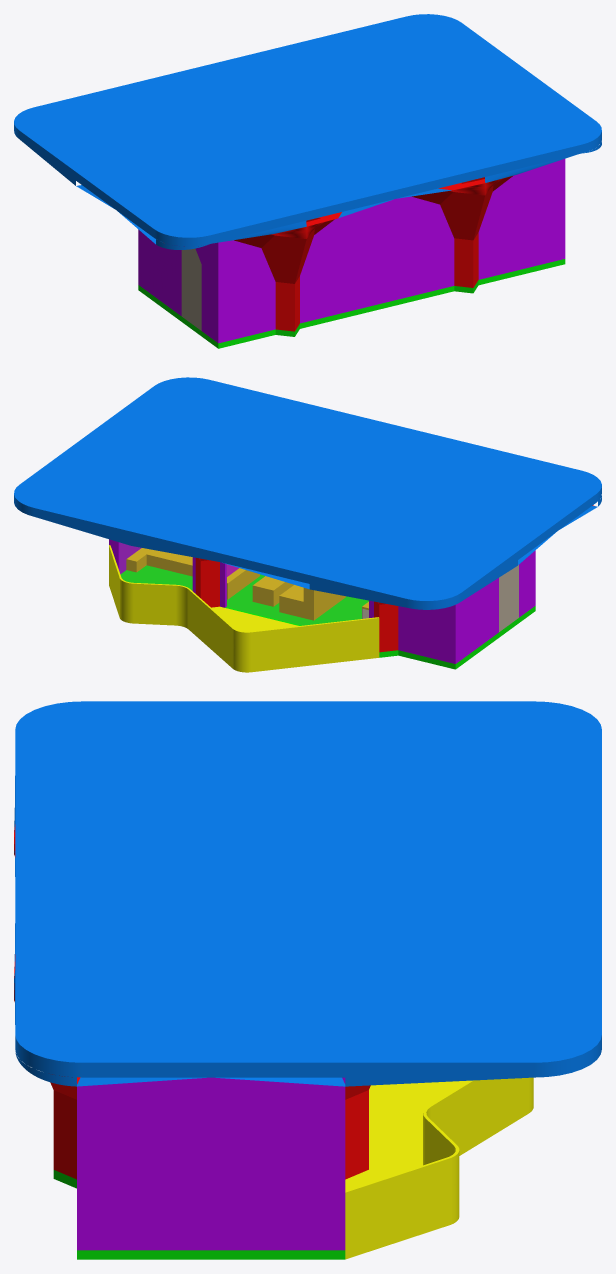
File: ROOM3.glb
3 renders of one model, top to bottom at view 1: azimuth 30°, elevation 25°; view 2: azimuth 150°, elevation 25°; view 3: azimuth 270°, elevation 25°, orthographic. The views are drawn at different scales.
Parts seen in each view (by area): view 1: top slabs, external walls, columns, floors, DOORS; view 2: top slabs, balconies, glasses, external walls, furniture, floors, columns, DOORS; view 3: top slabs, external walls, balconies, columns, floors.
Part boxes in pixels (bbox=[...]): top slabs: bbox=[14, 14, 601, 249]; external walls: bbox=[138, 159, 565, 343]; columns: bbox=[234, 176, 512, 331]; floors: bbox=[138, 259, 565, 348]; DOORS: bbox=[181, 248, 201, 330]; top slabs: bbox=[14, 377, 601, 609]; balconies: bbox=[109, 545, 379, 672]; glasses: bbox=[120, 543, 368, 625]; external walls: bbox=[109, 539, 535, 663]; furniture: bbox=[126, 548, 368, 620]; floors: bbox=[120, 565, 535, 669]; columns: bbox=[195, 505, 593, 652]; DOORS: bbox=[499, 565, 518, 631]; top slabs: bbox=[14, 701, 601, 1086]; external walls: bbox=[77, 1077, 345, 1250]; balconies: bbox=[345, 1077, 533, 1259]; columns: bbox=[14, 824, 370, 1179]; floors: bbox=[53, 1170, 345, 1259].
Size of the model in its own units: 12.75 by 3.68 by 8.77.
